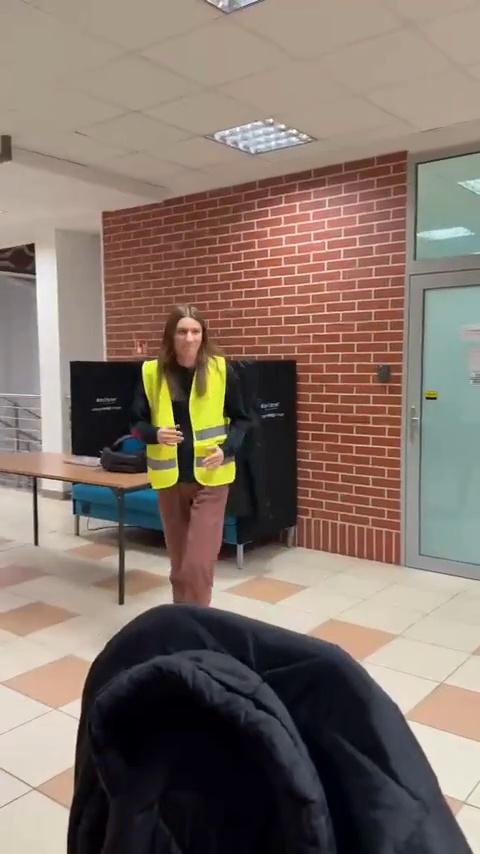vest: (139, 304, 240, 600)
